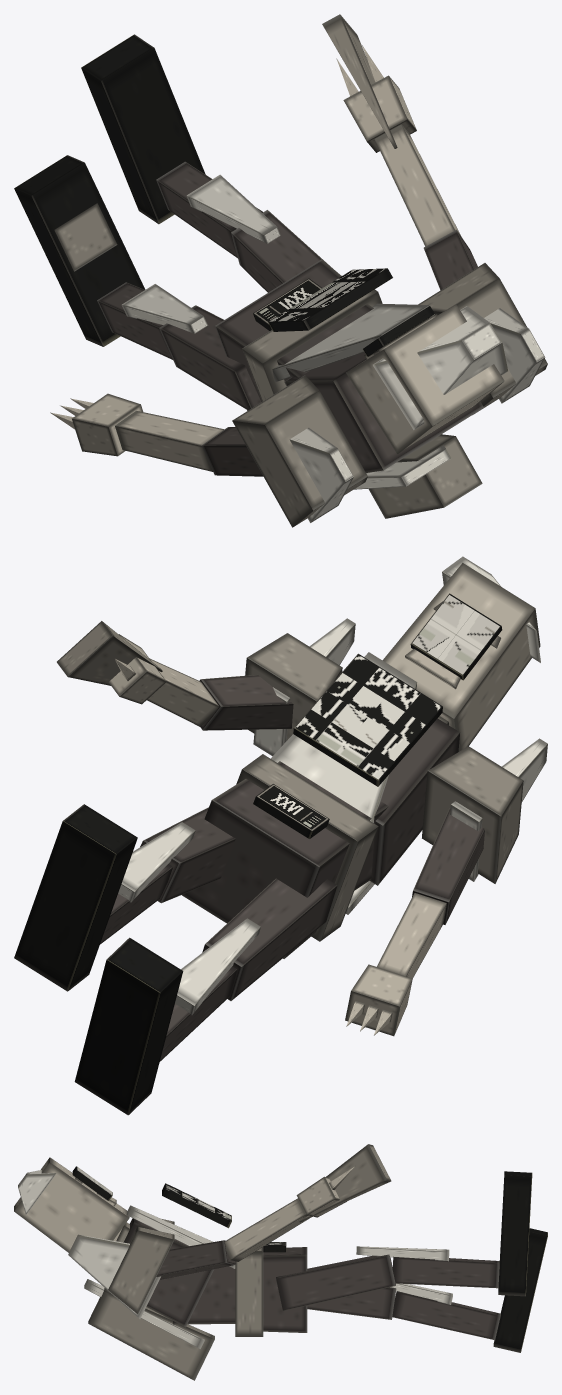
The model's file is velaroth_attack.obj.
3 views of the same model, one above another, from view 1: azimuth 30°, elevation 25°; view 2: azimuth 150°, elevation 25°; view 3: azimuth 270°, elevation 25° (orthographic). The views are drawn at different scales.
Visible parts, largest first — view 1: velaroth_attack; view 2: velaroth_attack; view 3: velaroth_attack.
Part boxes in pixels (x1,y1,x2,y2): velaroth_attack: (14, 14, 547, 527); velaroth_attack: (14, 556, 547, 1115); velaroth_attack: (14, 1144, 547, 1380).
Size of the model in its own units: 0.4576 by 0.5366 by 0.995.
Materials: 1 (1 with a texture image).
